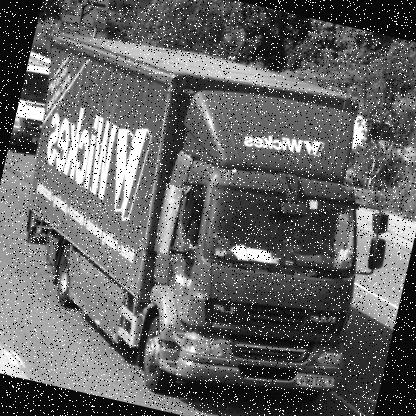Car: (10, 50, 58, 151)
